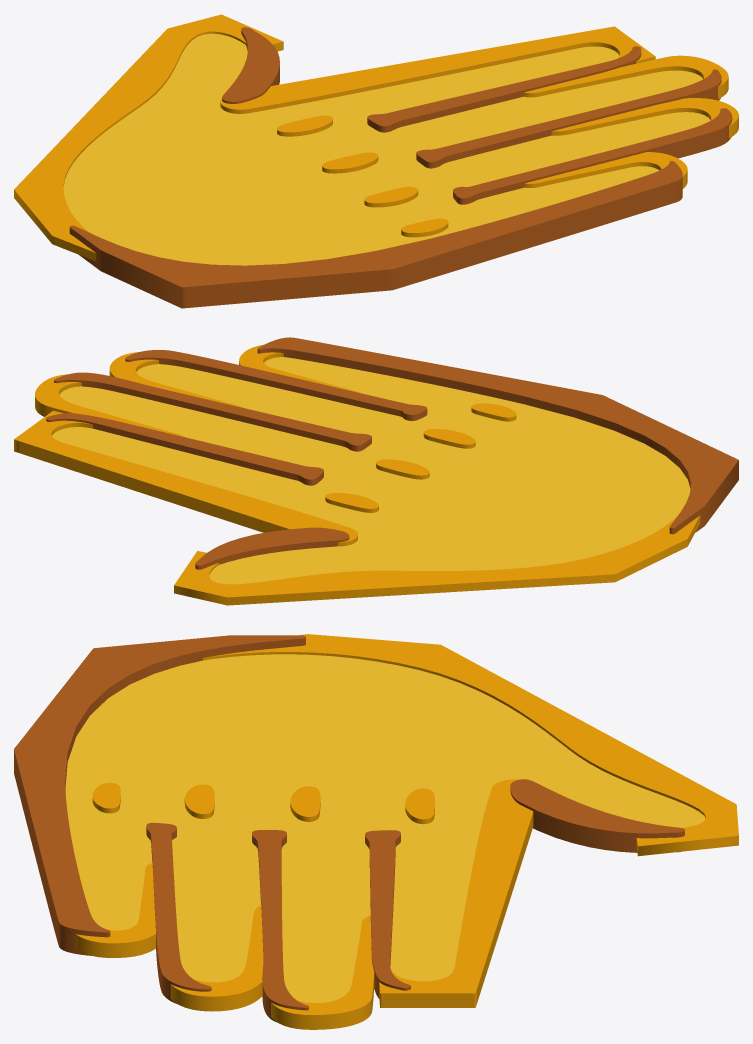
File: emoji_u1faf1.glb
3 renders of one model, top to bottom at view 1: azimuth 30°, elevation 25°; view 2: azimuth 150°, elevation 25°; view 3: azimuth 270°, elevation 25°, orthographic. The views are drawn at different scales.
Parts seen in each view (by area): view 1: emoji_u1faf1; view 2: emoji_u1faf1; view 3: emoji_u1faf1.
Boxes of the visible parts, <box> form: emoji_u1faf1: <box>14,14,738,308</box>; emoji_u1faf1: <box>14,337,738,605</box>; emoji_u1faf1: <box>14,634,738,1029</box>.
Size of the model in its own units: 0.0334 by 0.001 by 0.0267.
